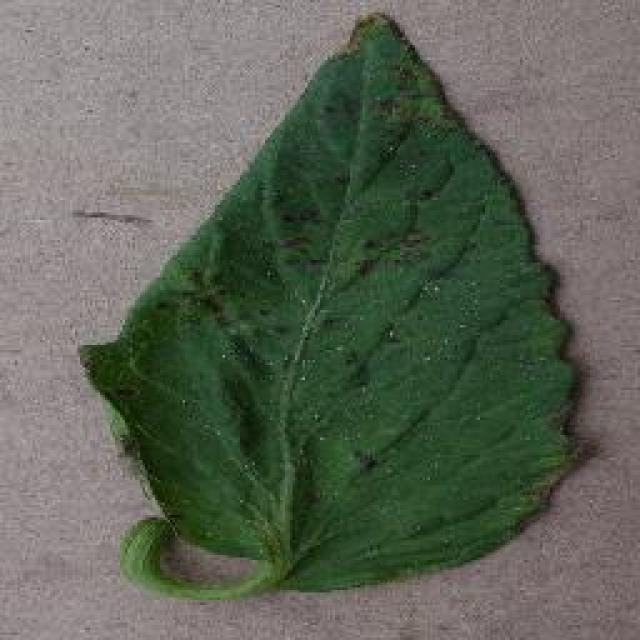Tomato___Bacterial_spot: (70, 5, 604, 607)
